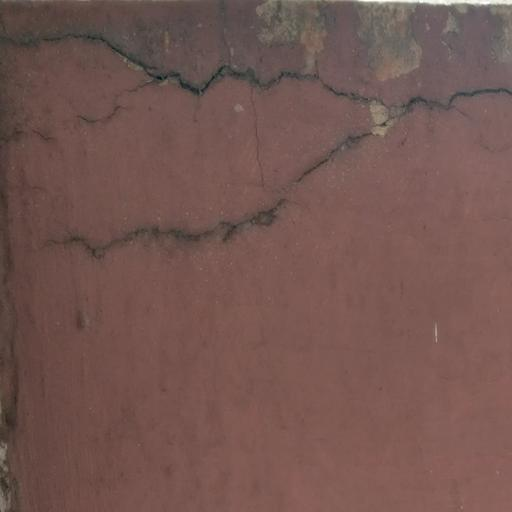major_crack: (0, 16, 512, 270)
